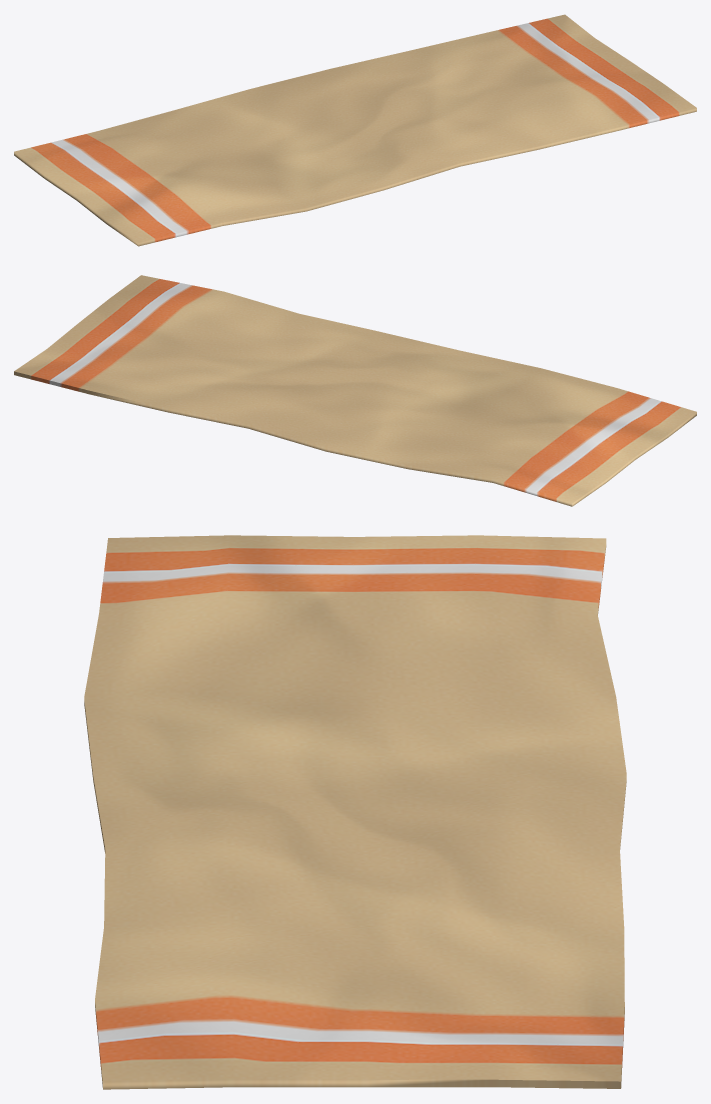
File: MB_Beach_Towel_02.fbx
3 views of the same model, one above another, from view 1: azimuth 30°, elevation 25°; view 2: azimuth 150°, elevation 25°; view 3: azimuth 270°, elevation 25° (orthographic). The views are drawn at different scales.
Parts seen in each view (by area): view 1: MB_Beach_Towel_02; view 2: MB_Beach_Towel_02; view 3: MB_Beach_Towel_02.
Part boxes in pixels (x1=…): MB_Beach_Towel_02: x1=14, y1=14, x2=696, y2=246; MB_Beach_Towel_02: x1=14, y1=275, x2=696, y2=506; MB_Beach_Towel_02: x1=84, y1=535, x2=626, y2=1089.
Size of the model in its own units: 184 by 4.2 by 77.48.
